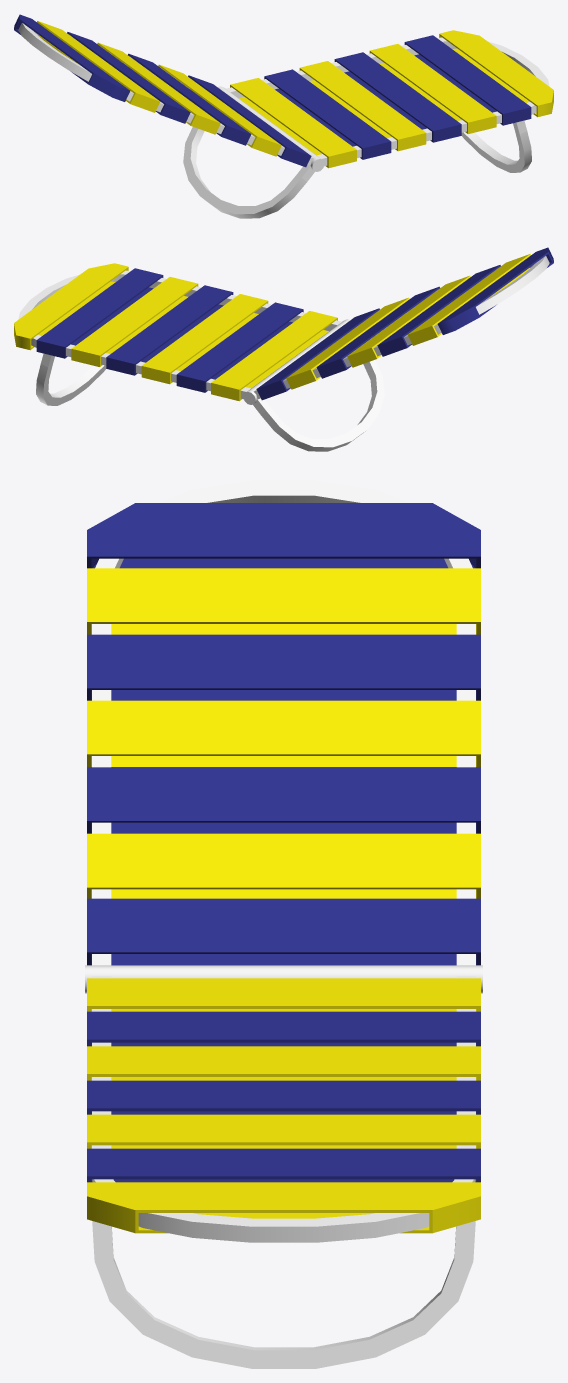
Rendered from MM_BeachChair.fbx.
3 renders of one model, top to bottom at view 1: azimuth 30°, elevation 25°; view 2: azimuth 150°, elevation 25°; view 3: azimuth 270°, elevation 25°, orthographic. The views are drawn at different scales.
Visible parts, largest first — view 1: MM_BeachChair; view 2: MM_BeachChair; view 3: MM_BeachChair.
Part boxes in pixels (box(x1,y1,x2,y2)): MM_BeachChair: box(14, 14, 553, 218); MM_BeachChair: box(14, 247, 553, 451); MM_BeachChair: box(85, 480, 482, 1368).
Size of the model in its own units: 203 by 89.67 by 71.52.
